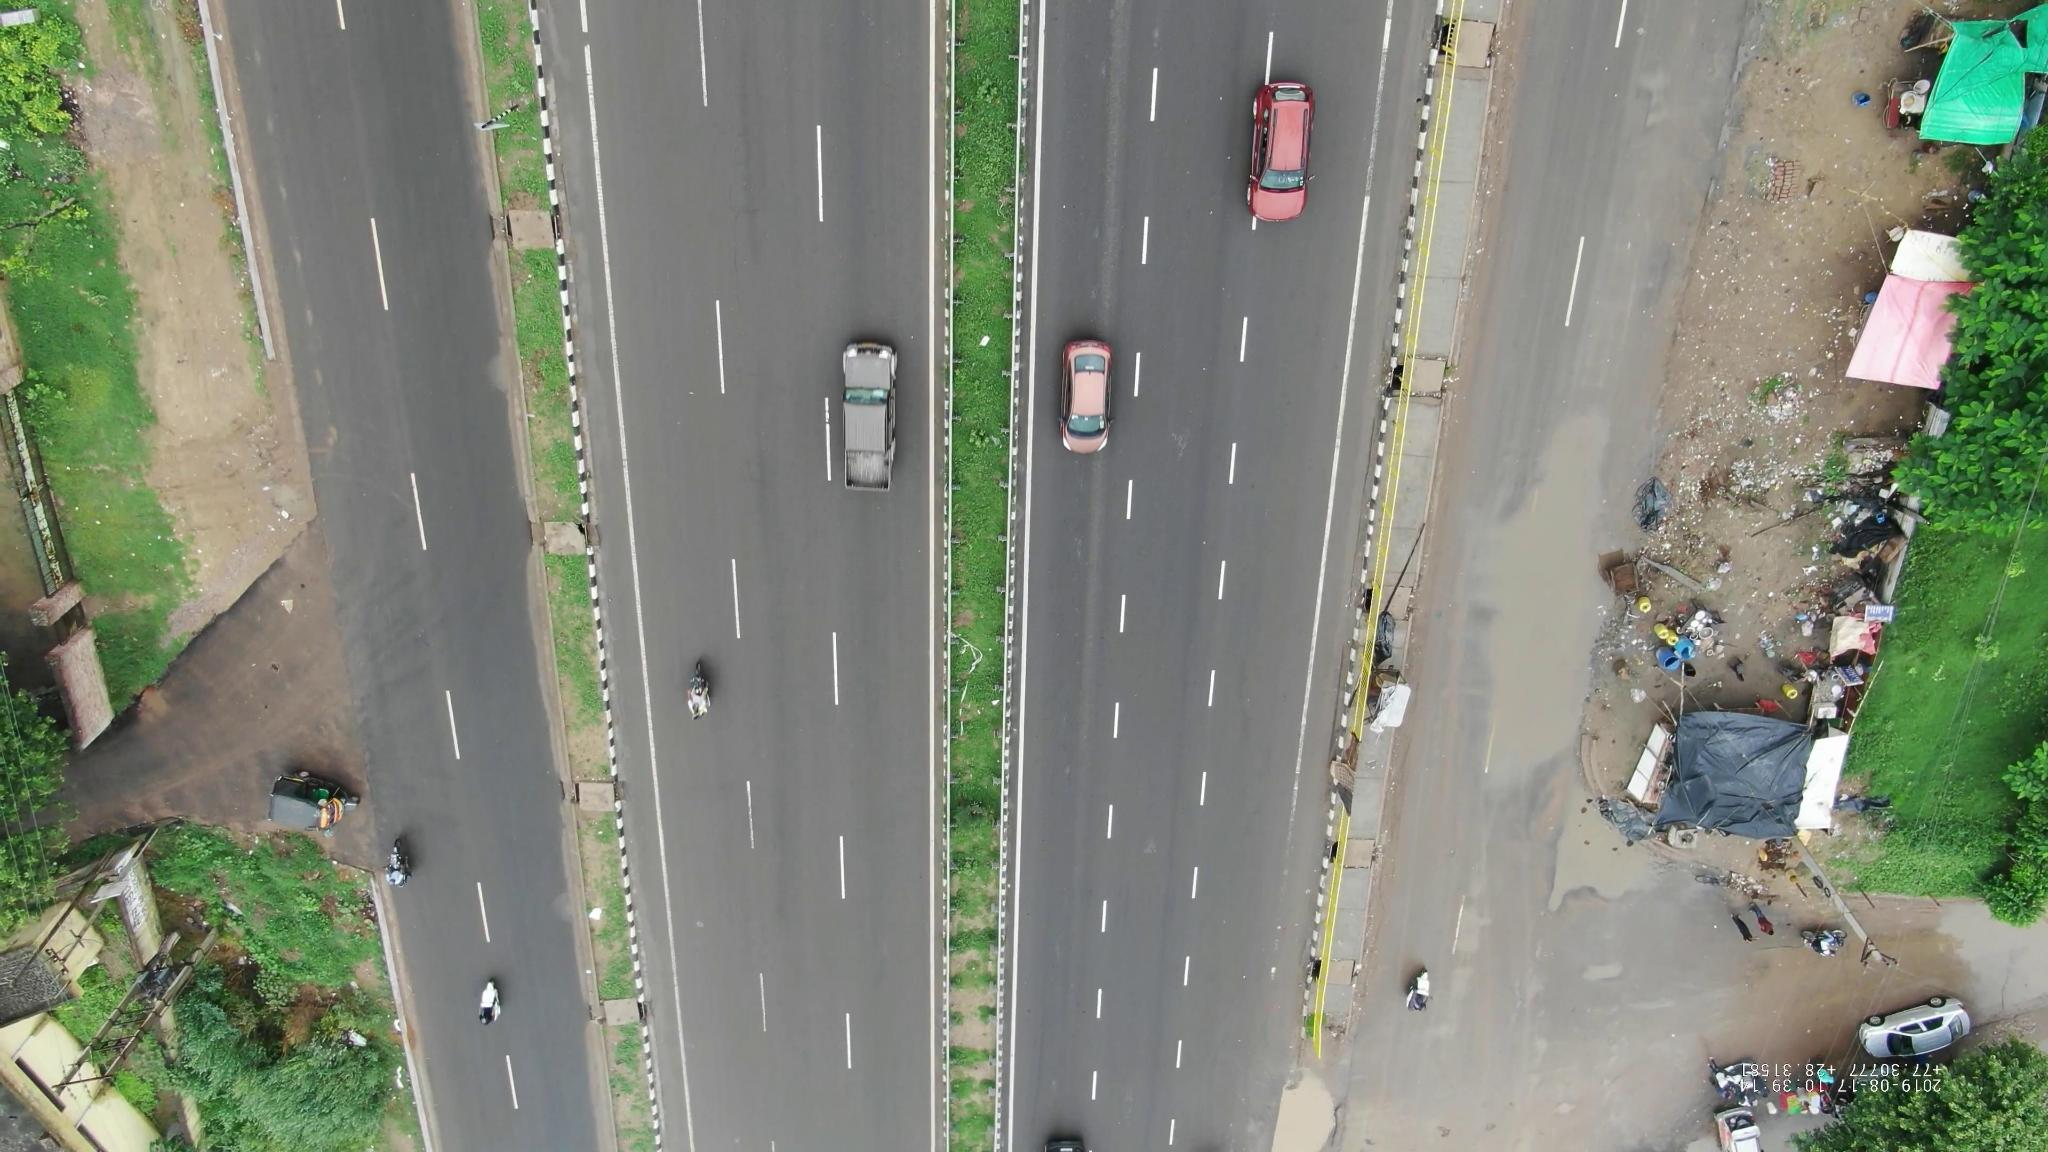Potholes: (1535, 793, 1692, 911), (1440, 847, 1506, 1042), (248, 41, 302, 232), (1523, 1016, 1616, 1124), (280, 241, 343, 394), (1265, 1063, 1364, 1152), (1532, 947, 1664, 999), (309, 366, 357, 489)
Waterlogging: (1473, 402, 1651, 779)
